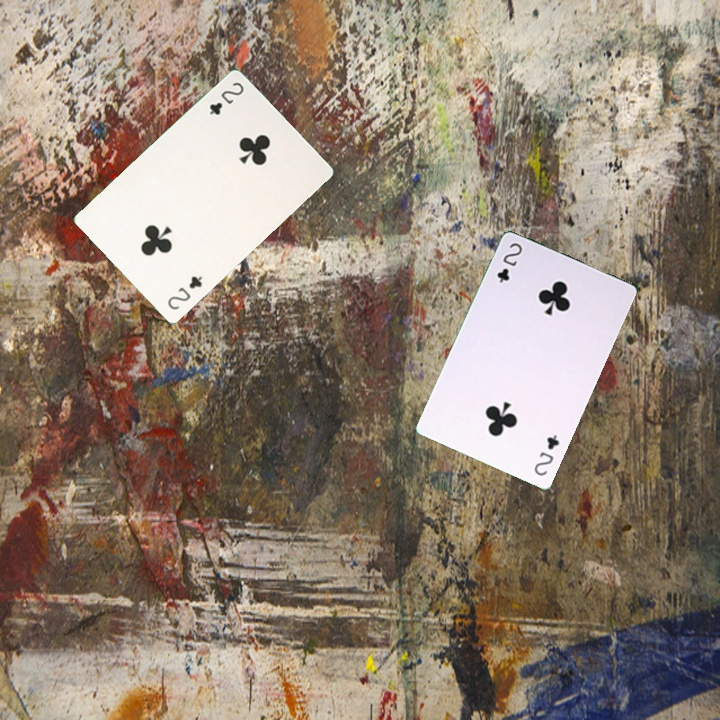2c: (163, 272, 205, 313), (205, 78, 246, 118), (530, 430, 562, 479), (493, 238, 525, 285)
